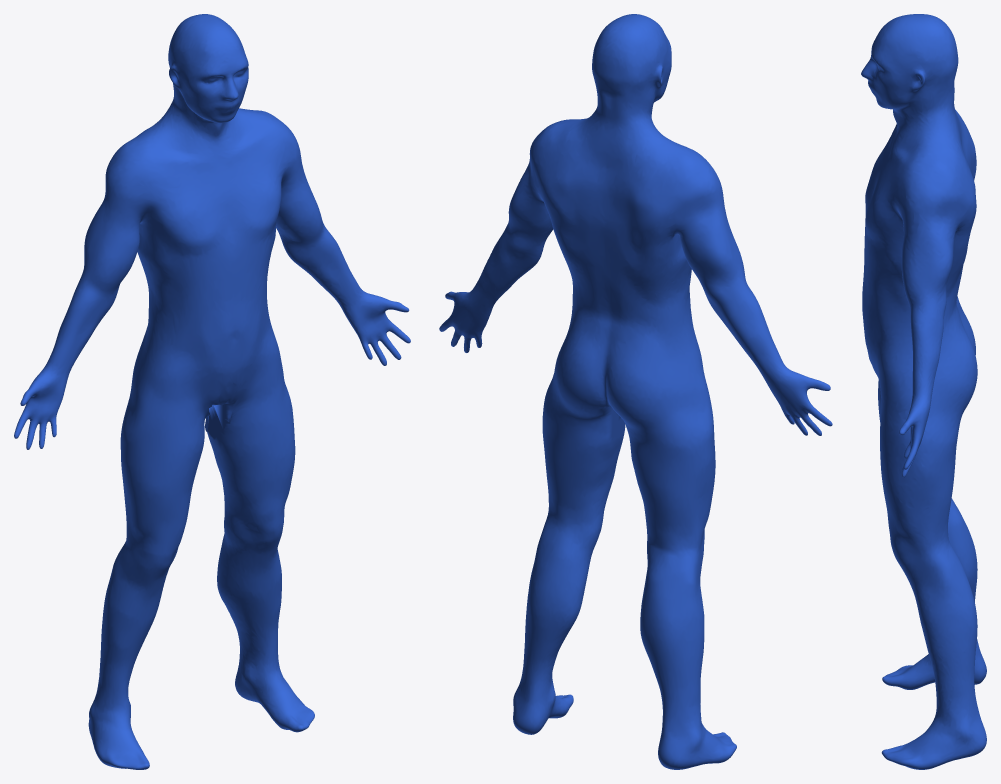
Rendered from skin.glb.
3 views of the same model, side by side, from view 1: azimuth 30°, elevation 25°; view 2: azimuth 150°, elevation 25°; view 3: azimuth 270°, elevation 25° (orthographic). The views are drawn at different scales.
Visible parts, largest first — view 1: VH_M_skin; view 2: VH_M_skin; view 3: VH_M_skin.
Part boxes in pixels (bbox=[...]): VH_M_skin: bbox=[14, 14, 410, 769]; VH_M_skin: bbox=[439, 14, 832, 769]; VH_M_skin: bbox=[861, 14, 986, 769].
Bounding box in the file's own units: 1.05 × 1.83 × 0.2949.
